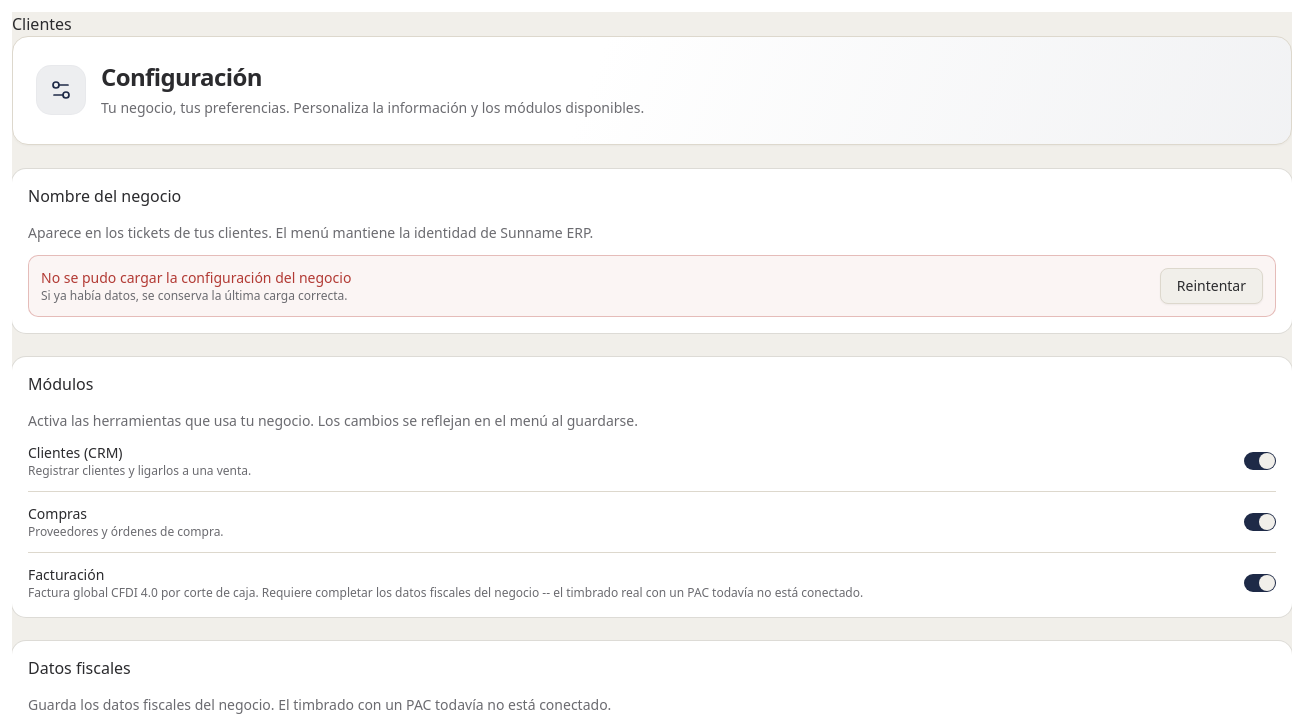
Test: Configuración segura › no habilita el nombre del negocio si falla la carga ni deja el guardado bloqueado tras una excepción
Expected: the text "No se pudo cargar la configuración del negocio" is shown, top-left (41, 268), bottom-right (351, 288)
Click the button "Reintentar" at (1211, 286), box top-left (1160, 268), bottom-right (1263, 304)
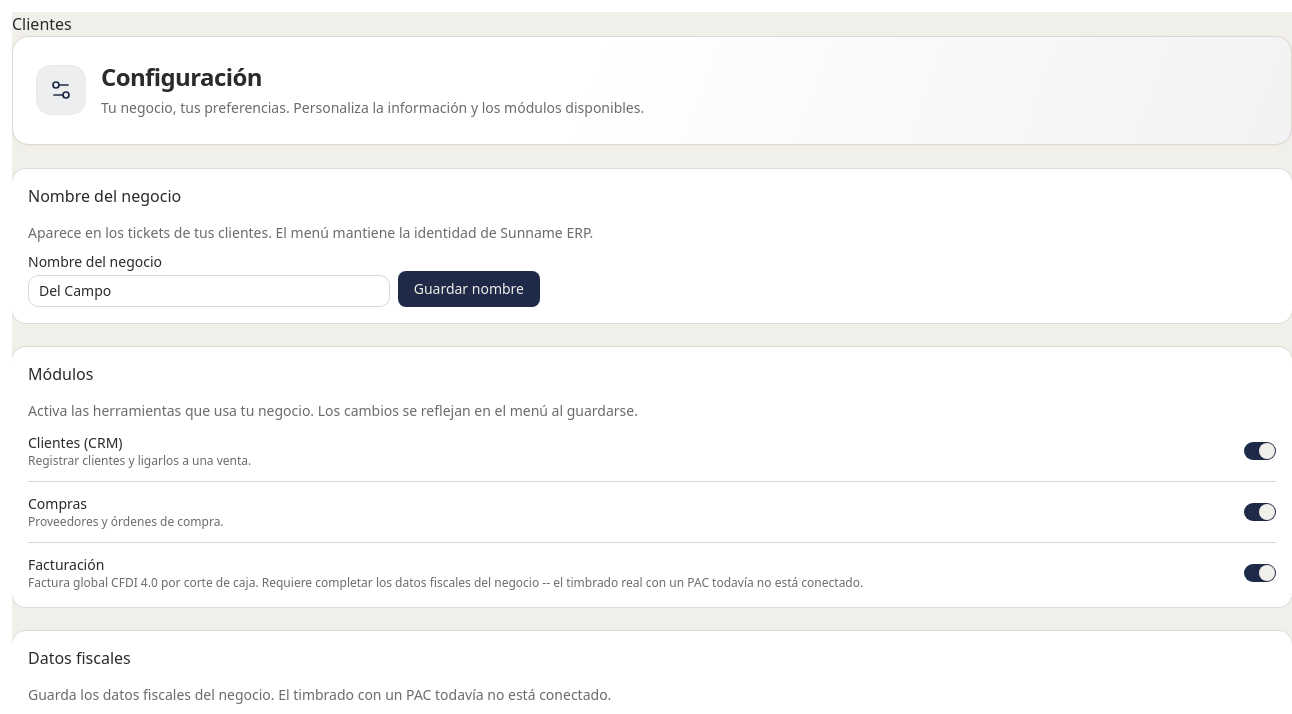
Replace the text in the field labelled "Nombre del negocio" with "Mi negocio" at (209, 291), box top-left (28, 275), bottom-right (390, 307)
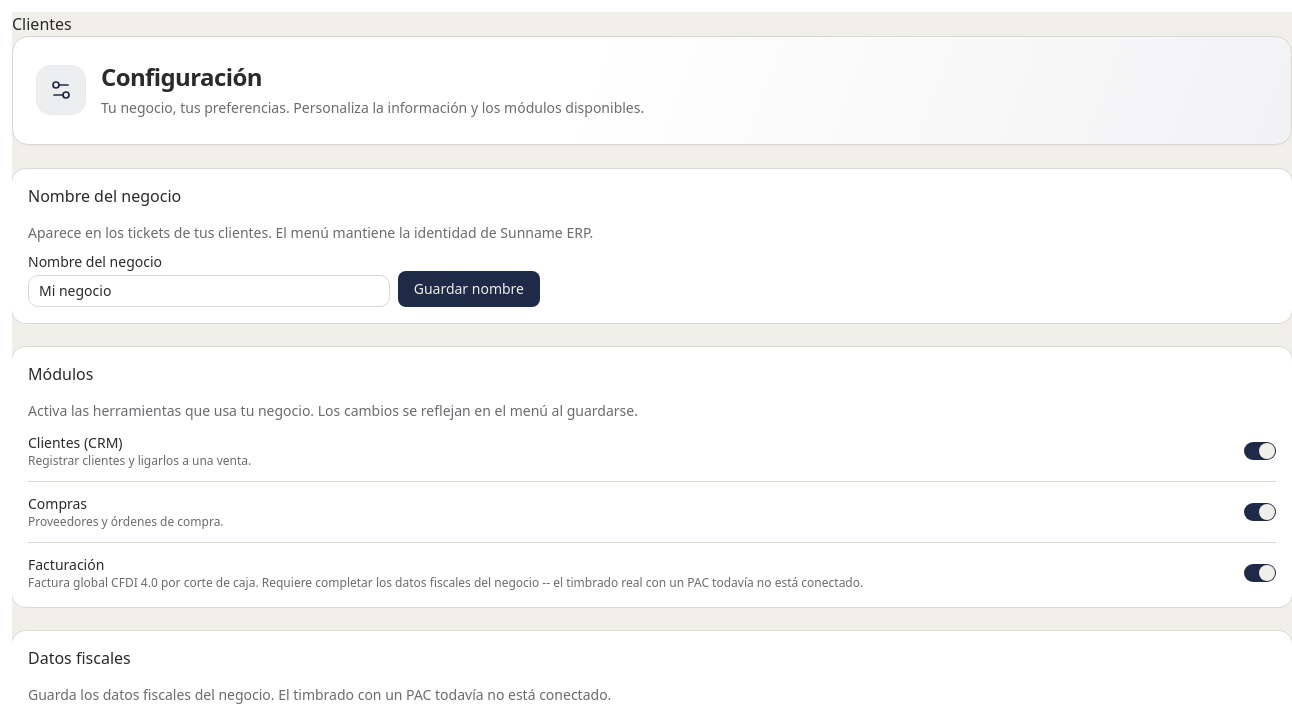
Submit the form labelled "Nombre del negocio", box top-left (28, 255), bottom-right (540, 307)
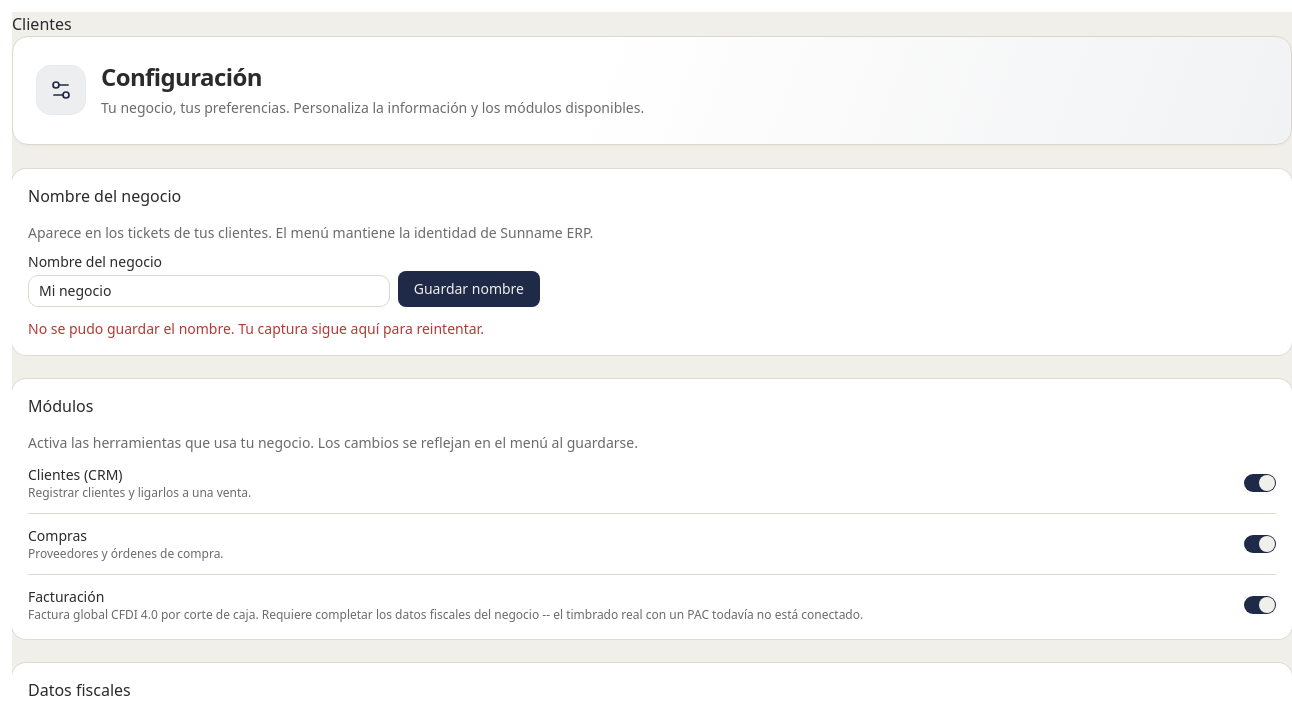
Expected: the field labelled "Nombre del negocio" is enabled, top-left (28, 275), bottom-right (390, 307)
Expected: the message "No se pudo guardar el nombre. Tu captura sigue aquí para reintentar." is shown, top-left (28, 319), bottom-right (540, 339)
Submit the form labelled "Nombre del negocio", box top-left (28, 255), bottom-right (540, 339)
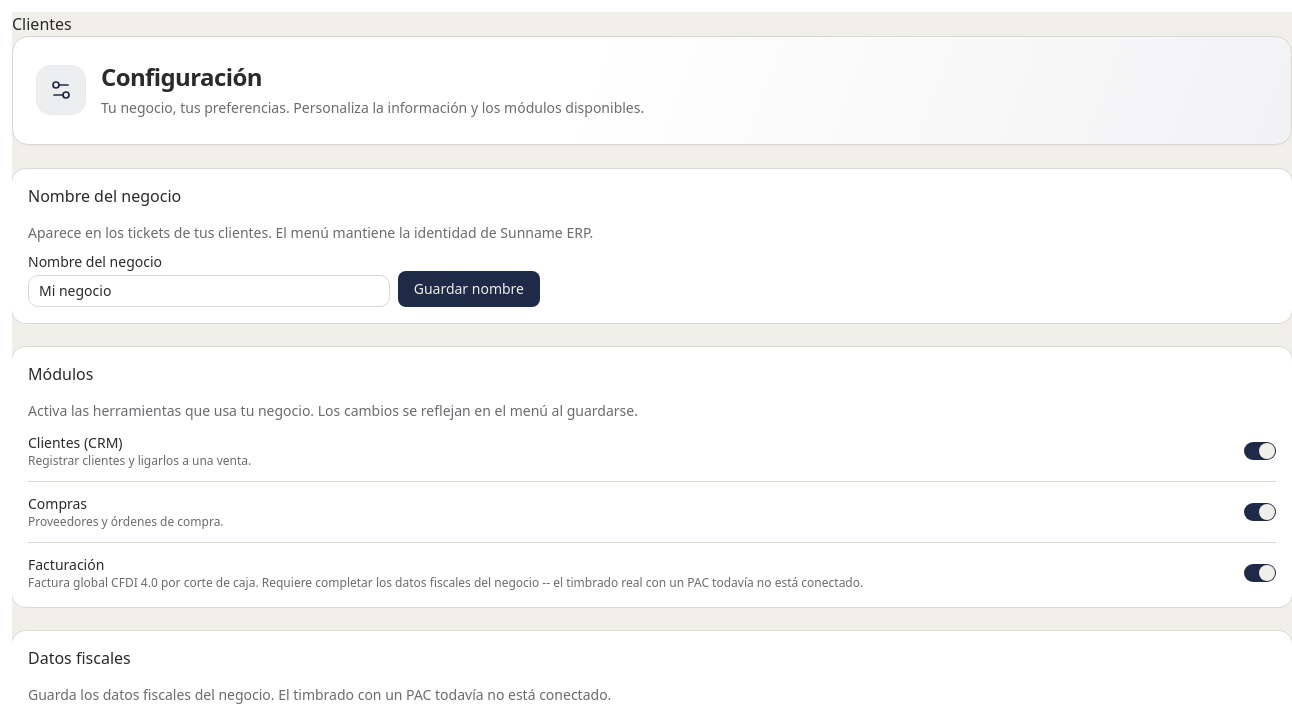
Expected: the message "No se pudo guardar el nombre. Tu captura sigue aquí para reintentar." is gone
